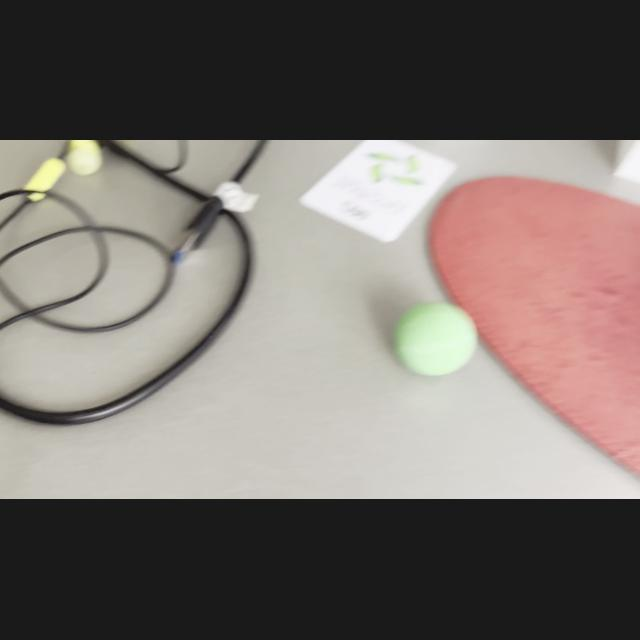objects: (385, 293, 487, 382)
